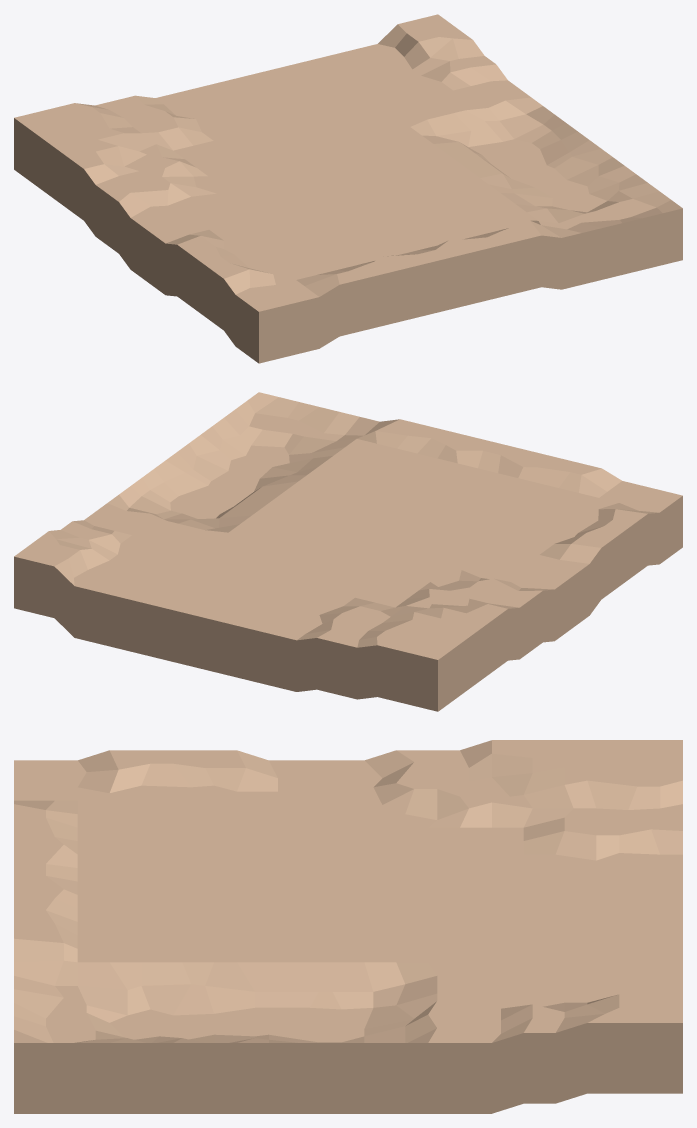
File: Terrain-03.fbx
The picture shows the model from 3 angles, top to bottom: view 1: azimuth 30°, elevation 25°; view 2: azimuth 150°, elevation 25°; view 3: azimuth 270°, elevation 25°; orthographic projection. The views are drawn at different scales.
Visible parts, largest first — view 1: Terrain-03; view 2: Terrain-03; view 3: Terrain-03.
Boxes of the visible parts, x1=… form: Terrain-03: x1=14, y1=14, x2=682, y2=363; Terrain-03: x1=14, y1=392, x2=682, y2=711; Terrain-03: x1=14, y1=740, x2=682, y2=1113.
Size of the model in its own units: 300 by 45 by 300.
